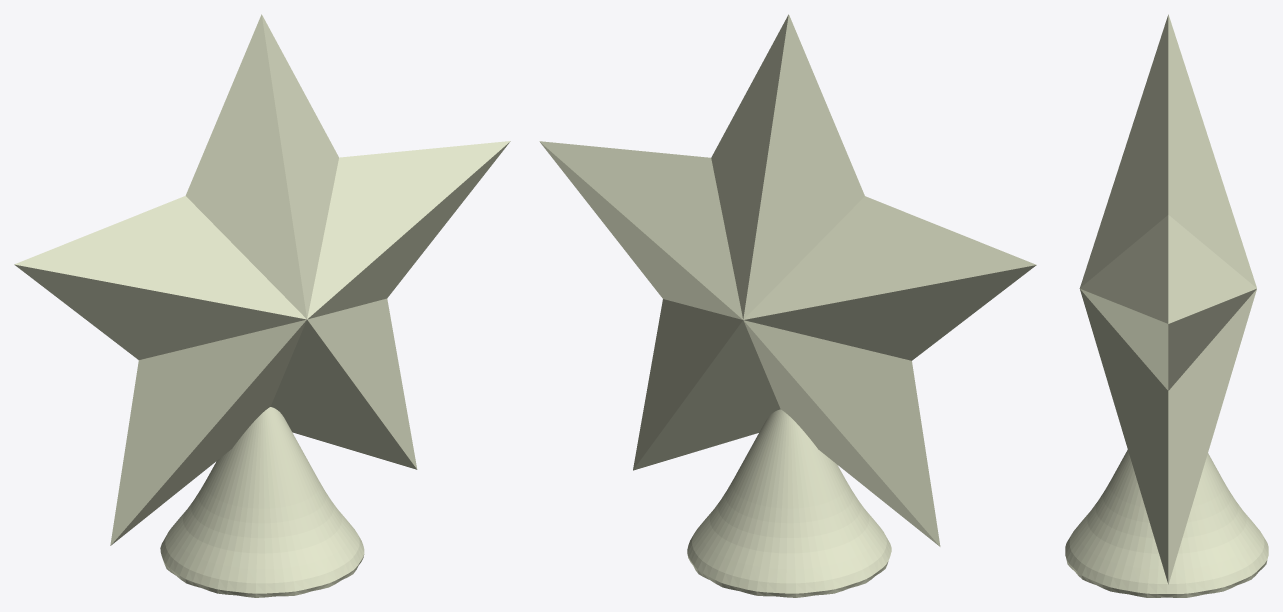
File: star.glb
The picture shows the model from 3 angles, left to right: view 1: azimuth 30°, elevation 25°; view 2: azimuth 150°, elevation 25°; view 3: azimuth 270°, elevation 25°; orthographic projection.
Visible parts, largest first — view 1: Extrude, Cone; view 2: Extrude, Cone; view 3: Extrude, Cone.
Boxes of the visible parts, x1,y1,x2,y2 form: Extrude: (14,14,510,545); Cone: (160,407,364,597); Extrude: (539,14,1036,546); Cone: (687,409,891,597); Extrude: (1079,14,1256,584); Cone: (1065,449,1268,597).
Size of the model in its own units: 0.951 by 0.9889 by 0.3367.
